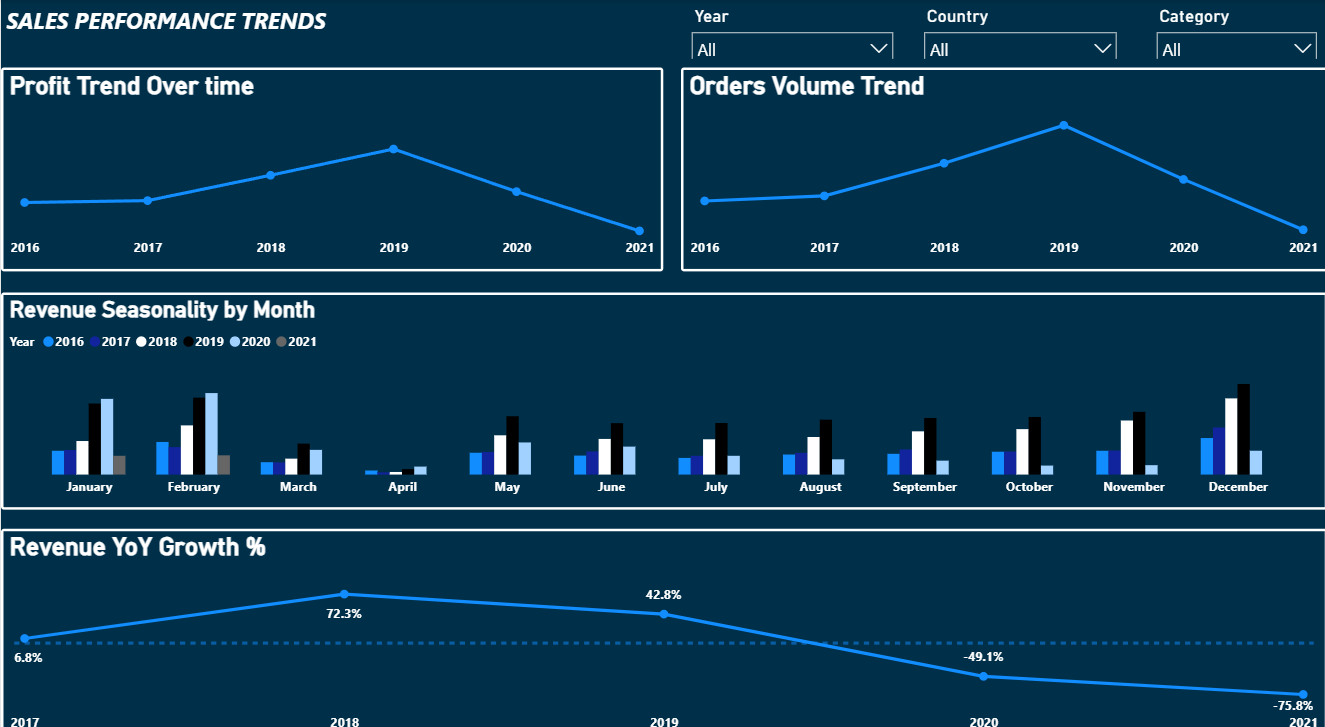

Layout of this report page (visuals, bound fields, positions):
{"tool":"powerbi","page":{"name":"TRENDS OVER TIME","canvas":[1280,720],"ordinal":1},"visuals":[{"type":"lineChart","title":"Profit Trend Over time","fields":{"Category":["Calendar_Tbl.Date Hierarchy.Year","Calendar_Tbl.Month Name"],"Y":["Sales.Profit"]},"box":[0,65.1,639.4,196.6],"z":0},{"type":"lineChart","title":"Orders Volume Trend","fields":{"Category":["Calendar_Tbl.Date Hierarchy.Year","Calendar_Tbl.Month Name"],"Y":["Sales.Orders"]},"box":[656.3,65.1,623.7,196.6],"z":1000},{"type":"clusteredColumnChart","title":"Revenue Seasonality by Month","fields":{"Category":["Calendar_Tbl.Date Hierarchy.Month Name"],"Y":["Sales.Revenue"],"Series":["Calendar_Tbl.Year"]},"box":[0,282.3,1280,209.9],"z":2000},{"type":"textbox","box":[0,0,378.8,56.7],"z":3000},{"type":"lineChart","title":"Revenue YoY Growth % ","fields":{"Category":["Calendar_Tbl.Year"],"Y":["Calendar_Tbl.YoY Growth %"]},"box":[0,510.3,1280,209.9],"z":4000},{"type":"slicer","fields":{"Values":["Calendar_Tbl.Year"]},"box":[656.3,0,214.7,56.7],"z":5000},{"type":"slicer","fields":{"Values":["Customers.Country"]},"box":[880.7,0,206.3,56.7],"z":6000},{"type":"slicer","fields":{"Values":["Products.Category"]},"box":[1105.1,0,174.9,56.7],"z":7000}]}

Visuals, with their boxes in screenshot pixels (x1, y1, x2, y2), scaled from the page's 1280x720 canvas onto the 1325x727 screenshot:
"Profit Trend Over time" lineChart: (0, 66, 662, 264)
"Orders Volume Trend" lineChart: (679, 66, 1324, 264)
"Revenue Seasonality by Month" clusteredColumnChart: (0, 285, 1324, 497)
textbox: (0, 0, 392, 57)
"Revenue YoY Growth % " lineChart: (0, 515, 1324, 726)
slicer - Calendar_Tbl.Year: (679, 0, 902, 57)
slicer - Customers.Country: (912, 0, 1125, 57)
slicer - Products.Category: (1144, 0, 1324, 57)
